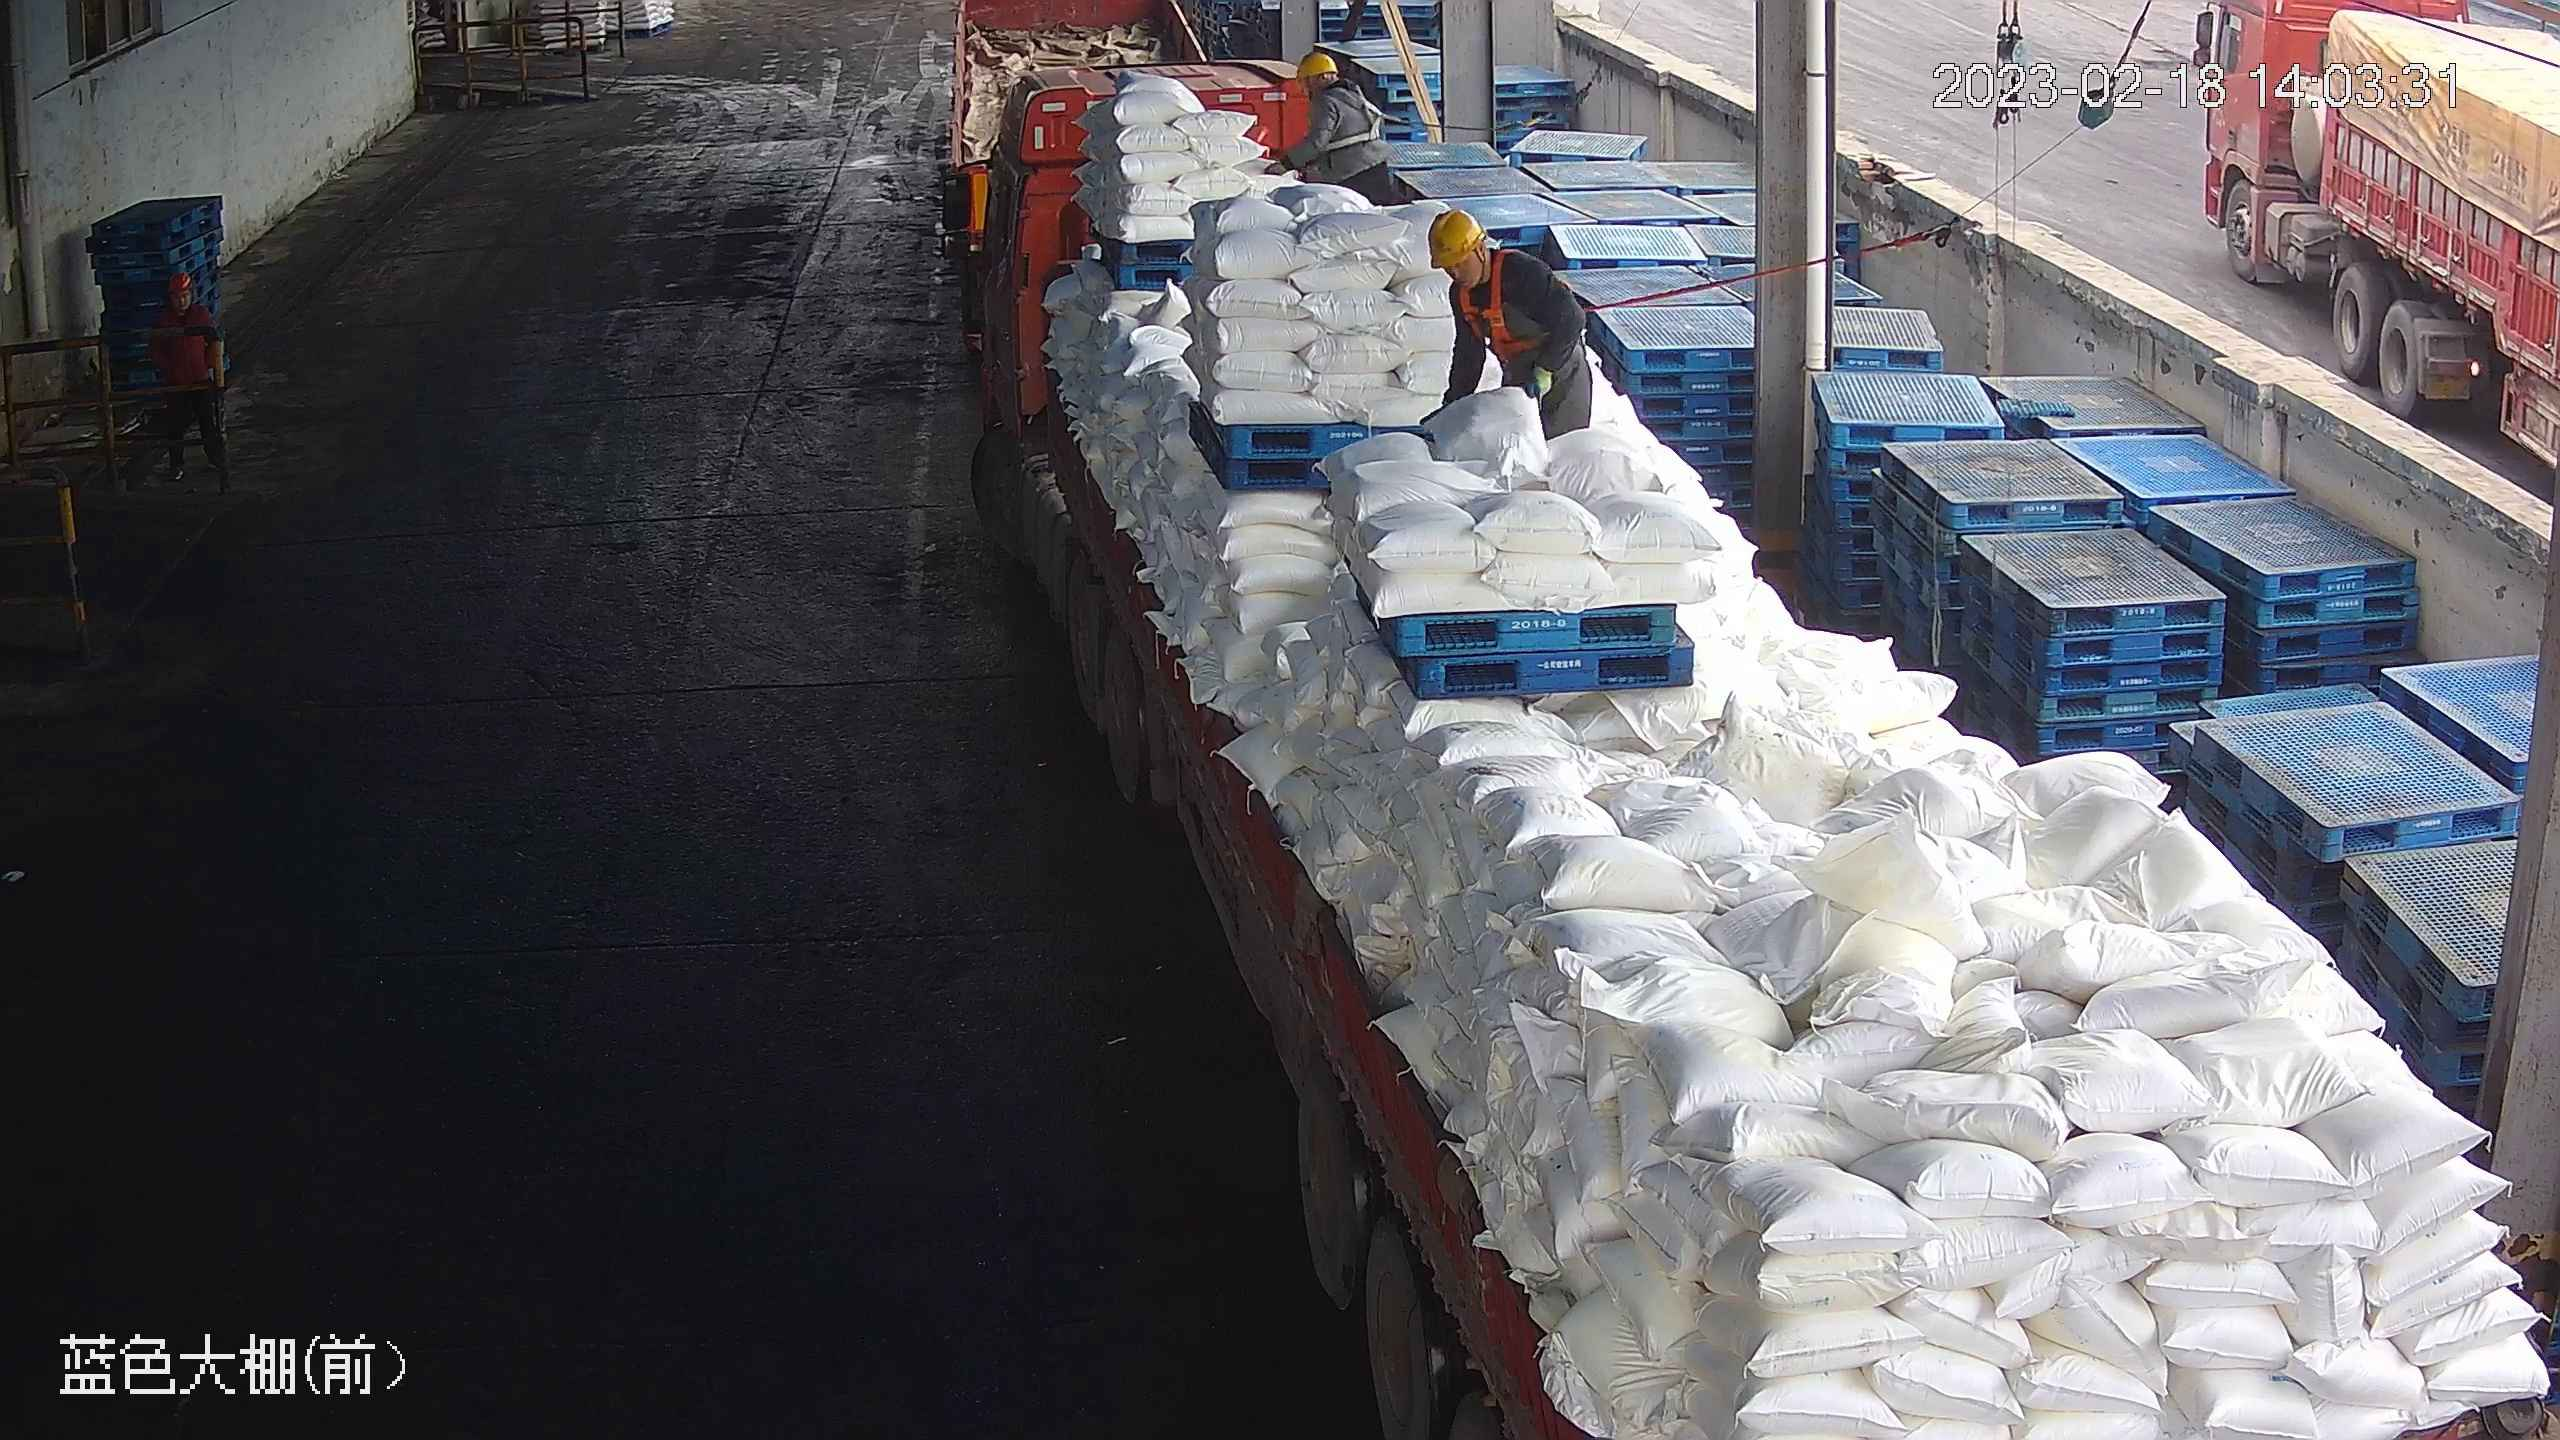belt: (1426, 207, 1598, 448), (1454, 256, 1576, 362), (1315, 82, 1389, 156)
head: (1426, 208, 1551, 302), (1286, 50, 1375, 118), (158, 269, 217, 332)
helmet: (1423, 206, 1542, 296), (1287, 50, 1374, 116), (1426, 208, 1487, 266), (1292, 49, 1339, 83), (167, 269, 200, 296)
people: (1425, 205, 1599, 447), (150, 265, 233, 496), (1266, 49, 1387, 192)
truck: (972, 82, 2560, 1440), (2181, 1, 2557, 467), (938, 1, 1219, 201)
